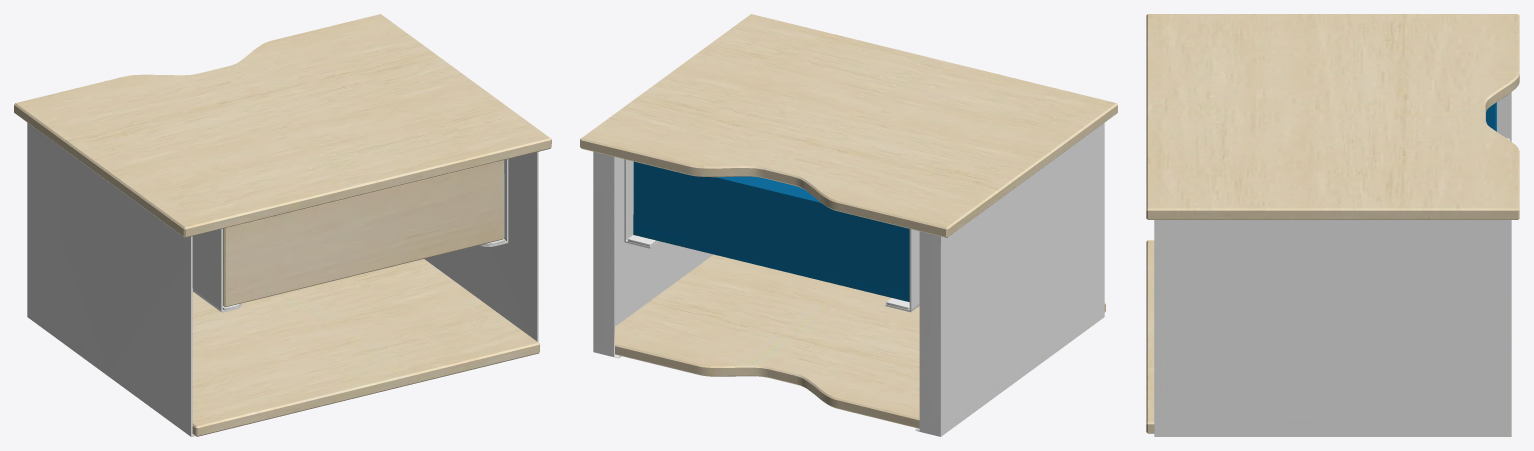
The picture shows the model from 3 angles, left to right: view 1: azimuth 30°, elevation 25°; view 2: azimuth 150°, elevation 25°; view 3: azimuth 270°, elevation 25°; orthographic projection. The views are drawn at different scales.
Parts seen in each view (by area): view 1: Mesh_0; view 2: Mesh_0; view 3: Mesh_0.
Part boxes in pixels (bbox=[...]): Mesh_0: bbox=[14, 14, 551, 436]; Mesh_0: bbox=[580, 14, 1117, 436]; Mesh_0: bbox=[1146, 14, 1519, 436].
Bounding box in the file's own units: 0.3599 × 0.2 × 0.29.
1 material, 1 textured.
